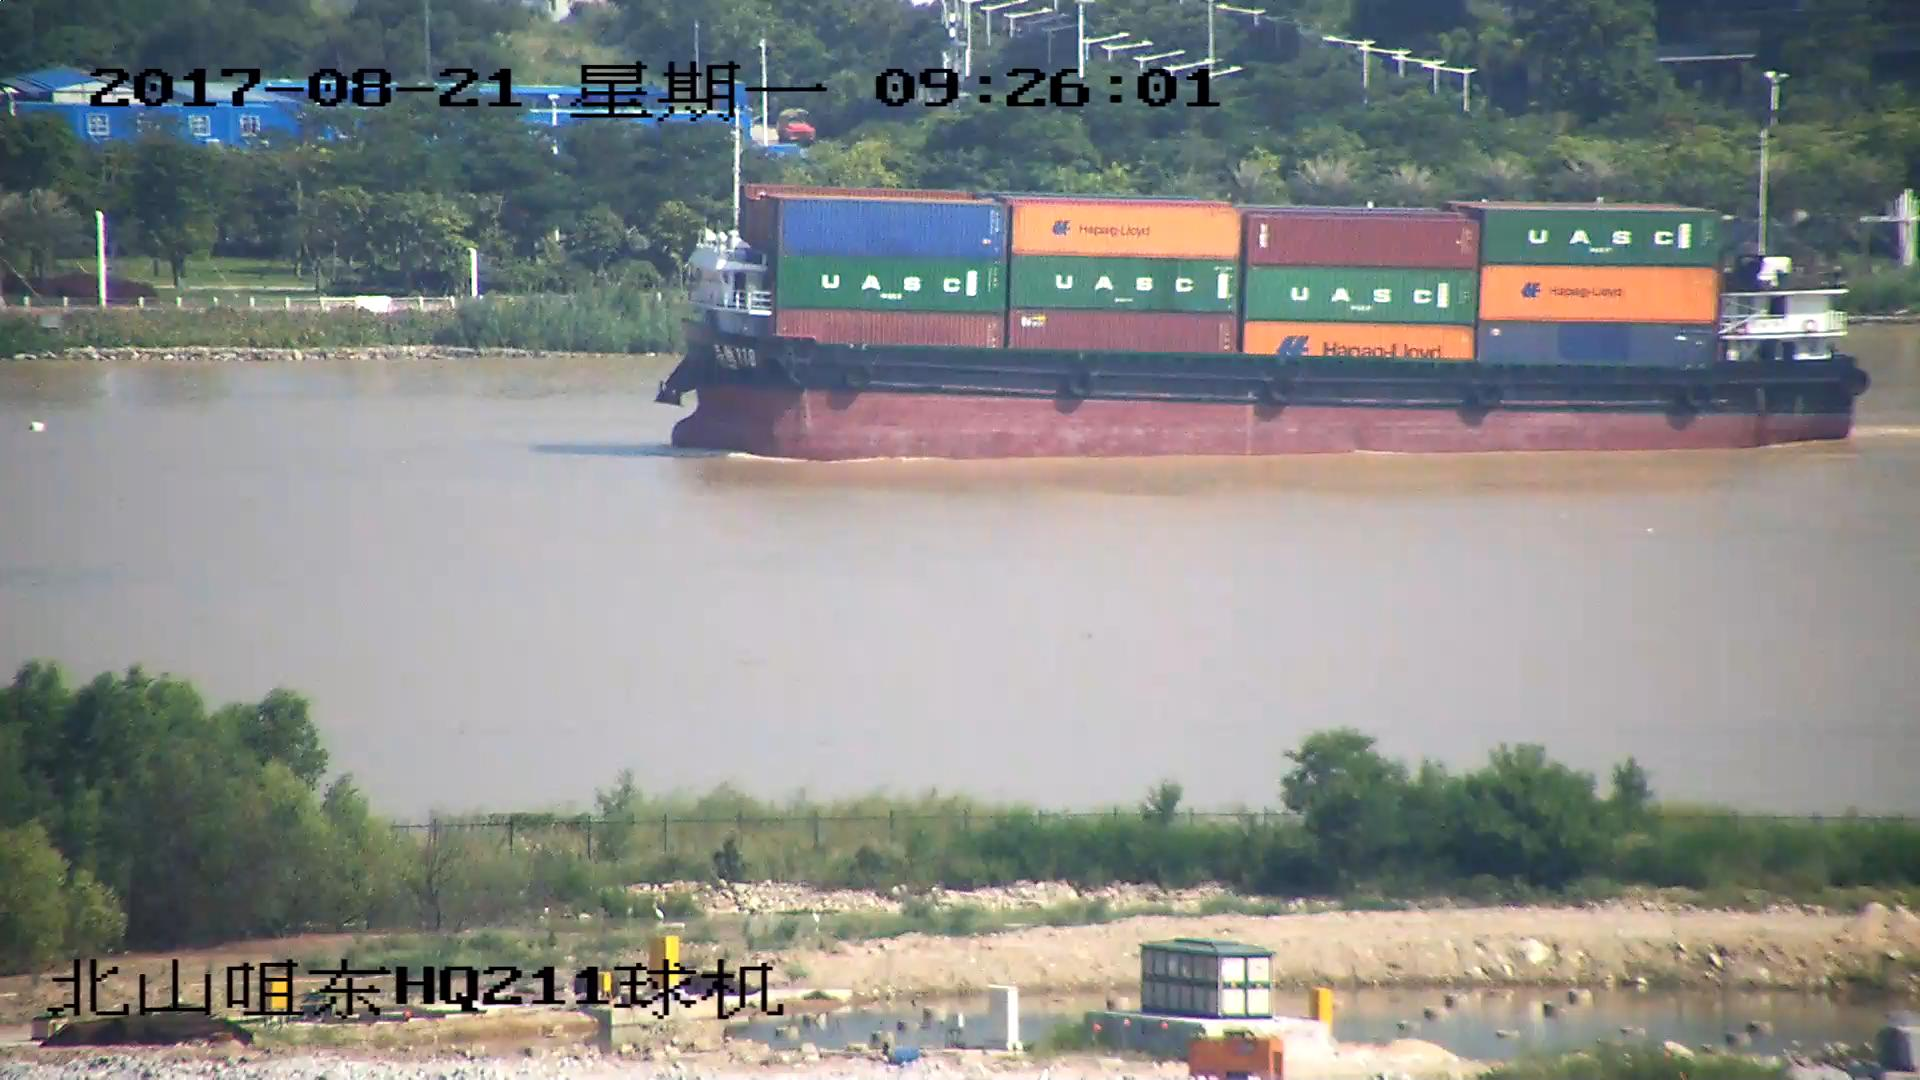container ship: (662, 119, 1869, 464)
